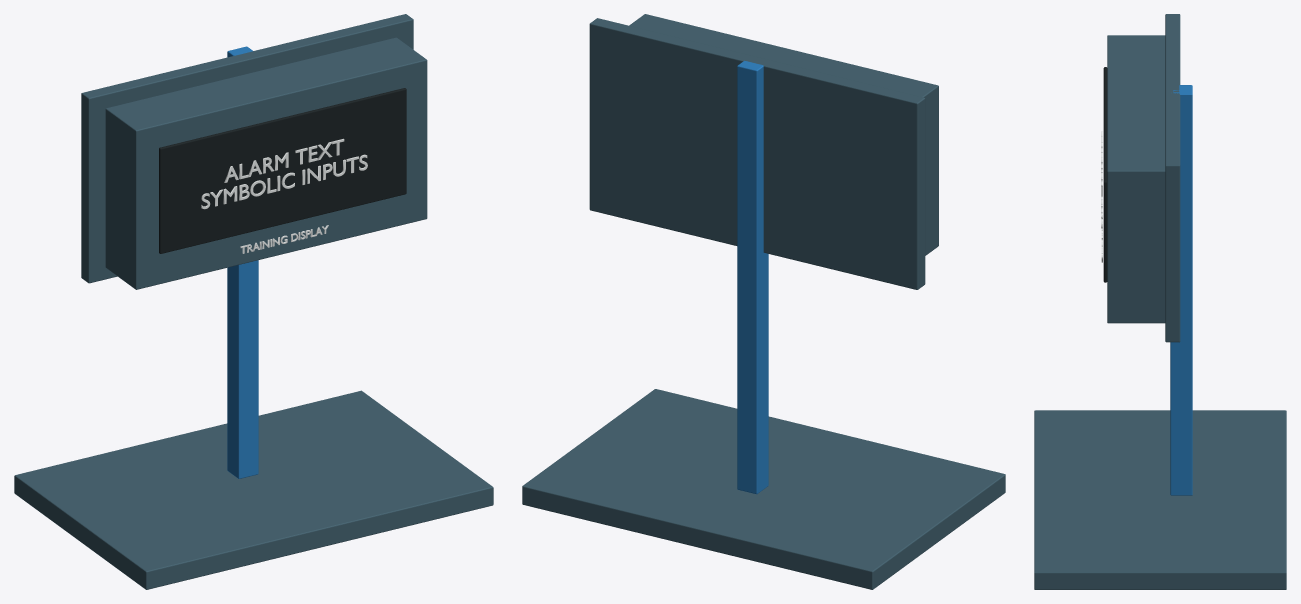
Rendered from fieldbus_alarm_string_display.glb.
3 renders of one model, left to right at view 1: azimuth 30°, elevation 25°; view 2: azimuth 150°, elevation 25°; view 3: azimuth 270°, elevation 25°, orthographic. The views are drawn at different scales.
Visible parts, largest first — view 1: STAND_base, ALARM_DISPLAY_enclosure, ALARM_DISPLAY_screen, STAND_backboard, STAND_mast, ALARM_DISPLAY_static_legend; view 2: STAND_backboard, STAND_base, STAND_mast, ALARM_DISPLAY_enclosure; view 3: STAND_base, ALARM_DISPLAY_enclosure, STAND_mast, STAND_backboard, ALARM_DISPLAY_screen.
Part boxes in pixels (box(x1,y1,x2,y2)): STAND_base: box(14, 390, 493, 589); ALARM_DISPLAY_enclosure: box(105, 37, 427, 289); ALARM_DISPLAY_screen: box(159, 88, 406, 253); STAND_backboard: box(81, 14, 413, 283); STAND_mast: box(227, 46, 258, 478); ALARM_DISPLAY_static_legend: box(201, 138, 367, 209); STAND_backboard: box(589, 18, 925, 289); STAND_base: box(522, 389, 1005, 589); STAND_mast: box(737, 60, 768, 494); ALARM_DISPLAY_enclosure: box(629, 14, 938, 255); STAND_base: box(1034, 410, 1286, 589); ALARM_DISPLAY_enclosure: box(1107, 35, 1165, 323); STAND_mast: box(1170, 85, 1192, 495); STAND_backboard: box(1165, 14, 1180, 342); ALARM_DISPLAY_screen: box(1103, 67, 1107, 282).
Bounding box in the file's own units: 1.55 × 1.87 × 1.02.
